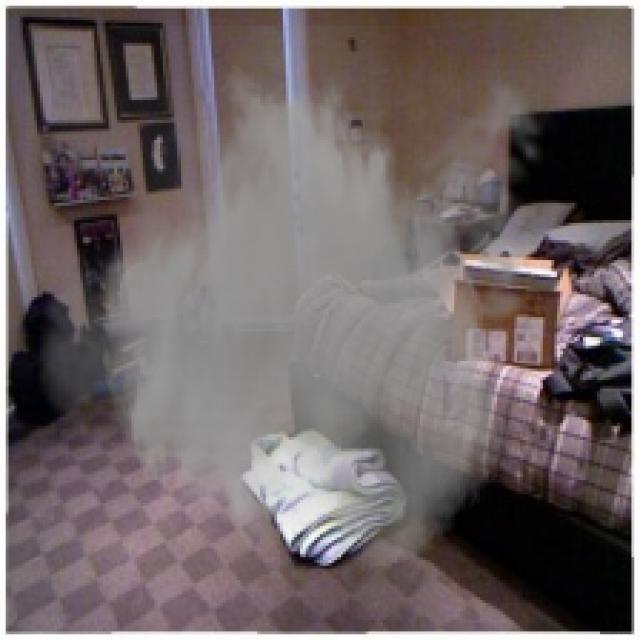smoke: (26, 26, 560, 571)
